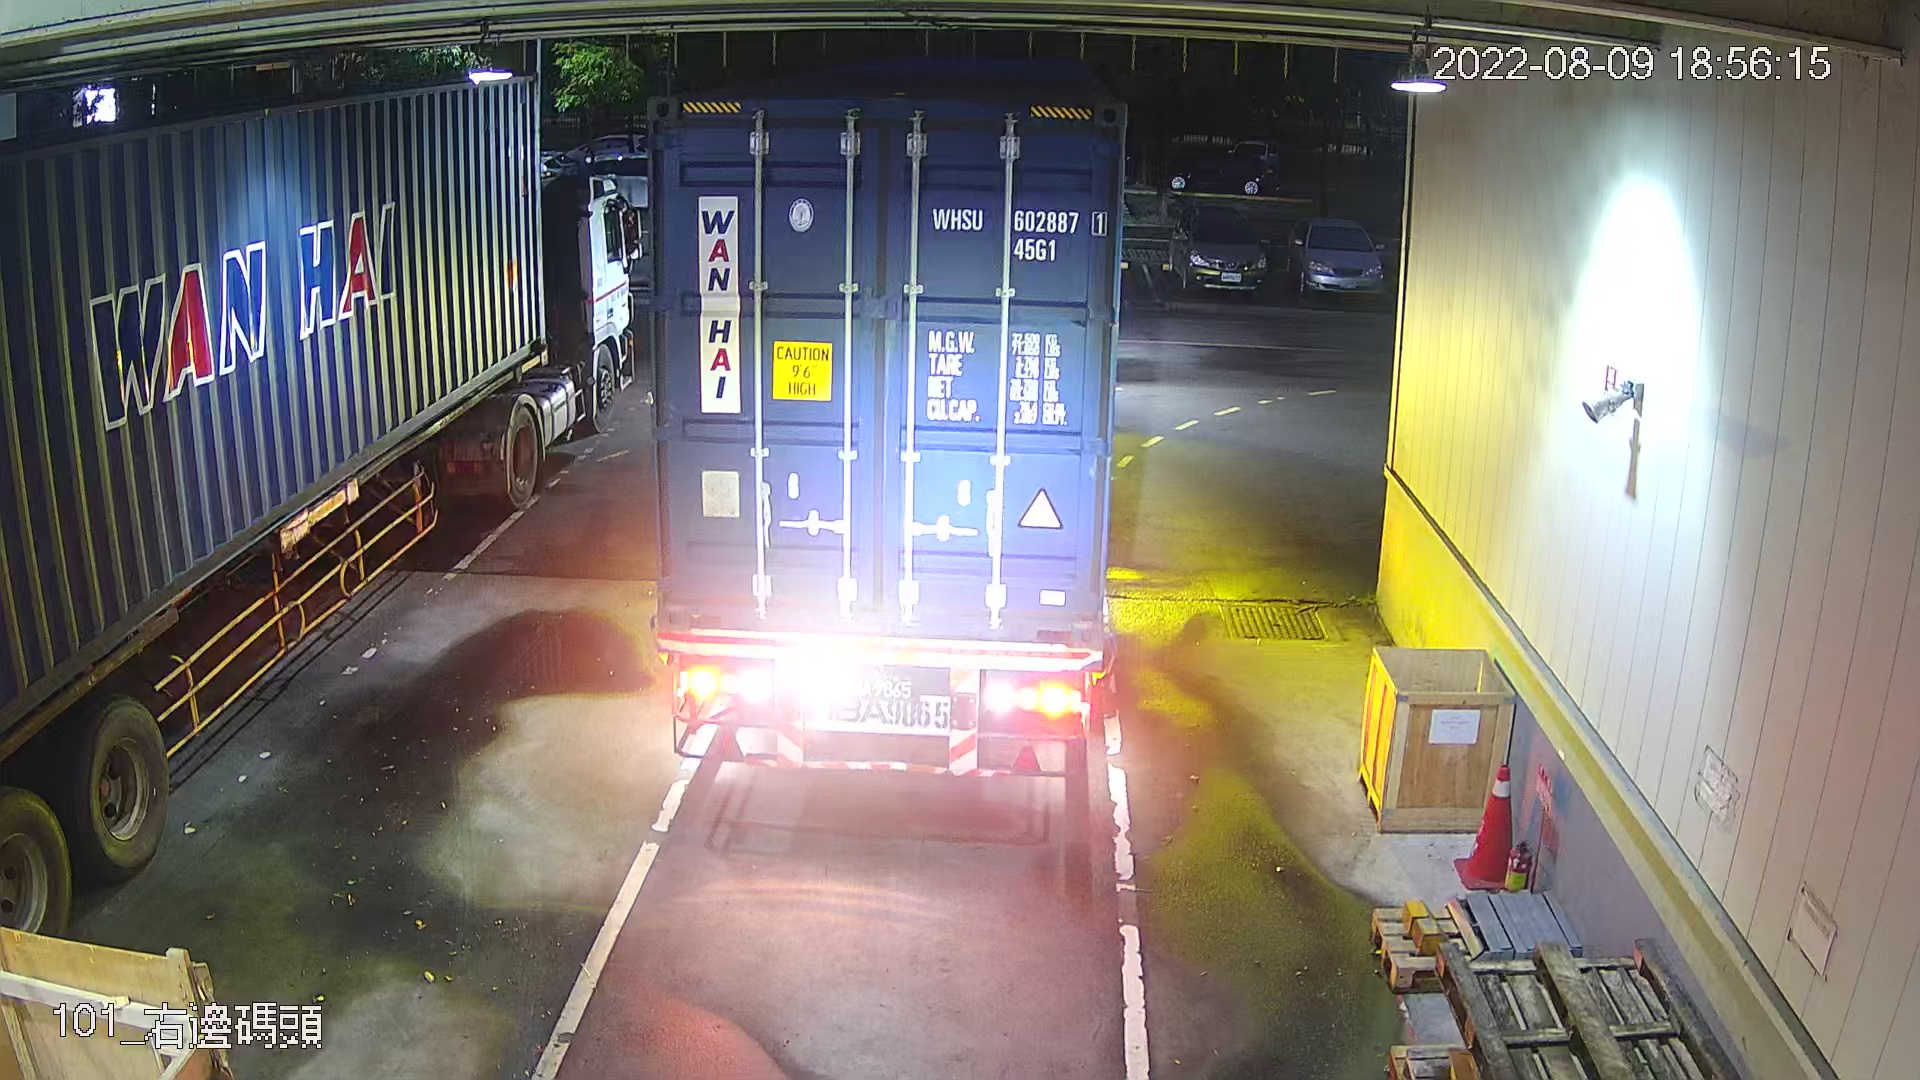container: (923, 198, 1112, 274)
